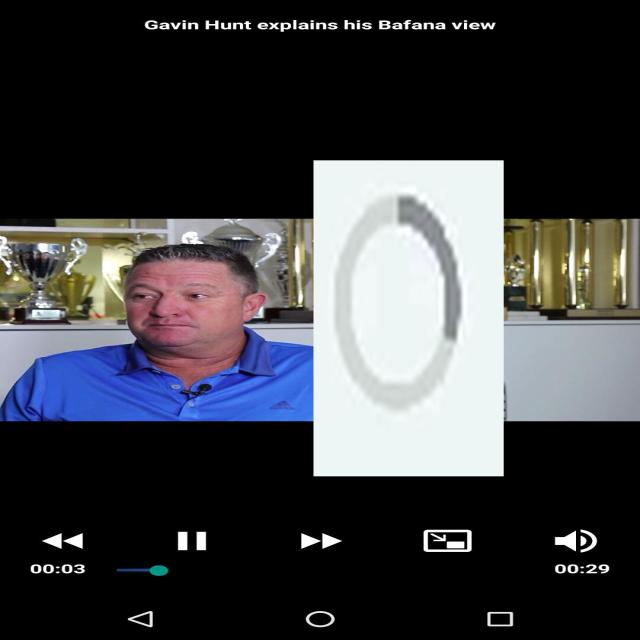misdirection: (314, 160, 504, 477)
